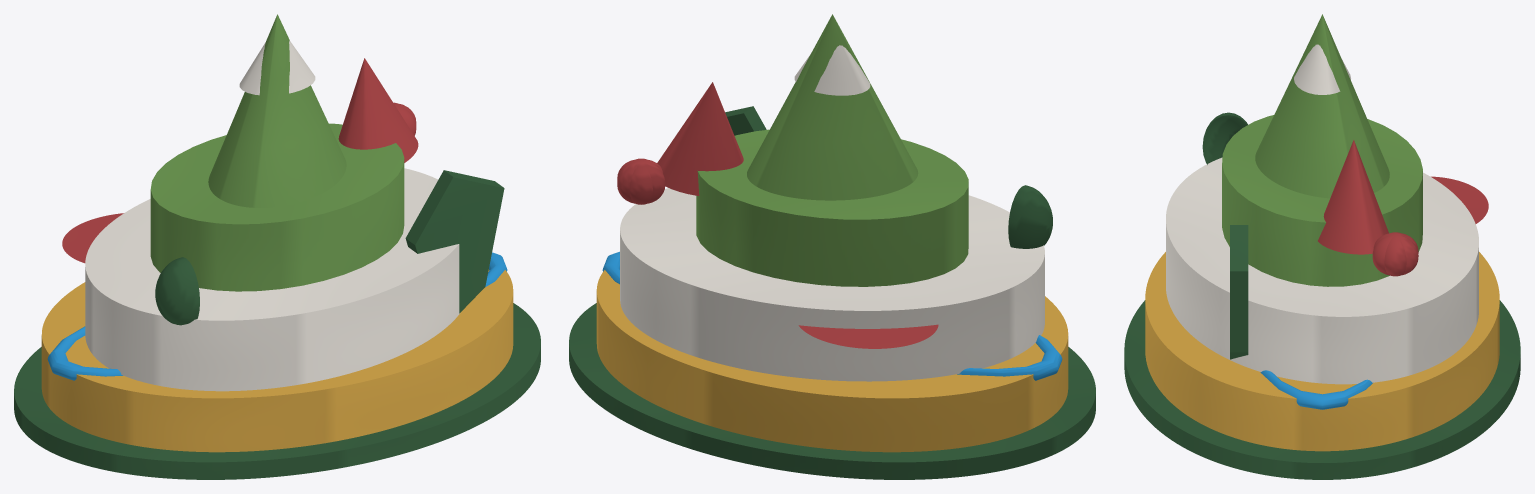
The model's file is 0627_地貌图鉴_泛大陆.glb.
3 views of the same model, side by side, from view 1: azimuth 30°, elevation 25°; view 2: azimuth 150°, elevation 25°; view 3: azimuth 270°, elevation 25° (orthographic). The views are drawn at different scales.
Visible parts, largest first — view 1: card_0627; view 2: card_0627; view 3: card_0627.
Part boxes in pixels (x1,y1,x2,y2): card_0627: (14,14,540,479); card_0627: (569,14,1095,479); card_0627: (1124,14,1520,479).
Size of the model in its own units: 1.37 by 1 by 1.02.
